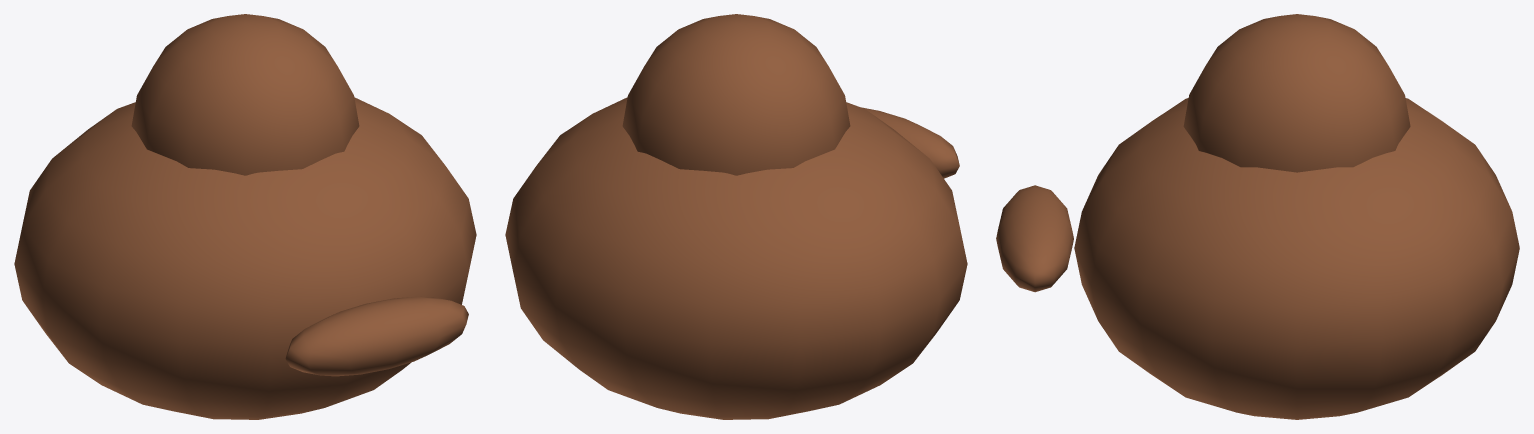
The model's file is hair_bun.glb.
3 views of the same model, side by side, from view 1: azimuth 30°, elevation 25°; view 2: azimuth 150°, elevation 25°; view 3: azimuth 270°, elevation 25° (orthographic).
Parts seen in each view (by area): view 1: Hair; view 2: Hair; view 3: Hair.
Boxes of the visible parts, box(x1,y1,x2,y2) form: Hair: box(14, 14, 476, 419); Hair: box(505, 14, 967, 419); Hair: box(996, 14, 1519, 419).
Bounding box in the file's own units: 14.06 × 12.13 × 15.74.
